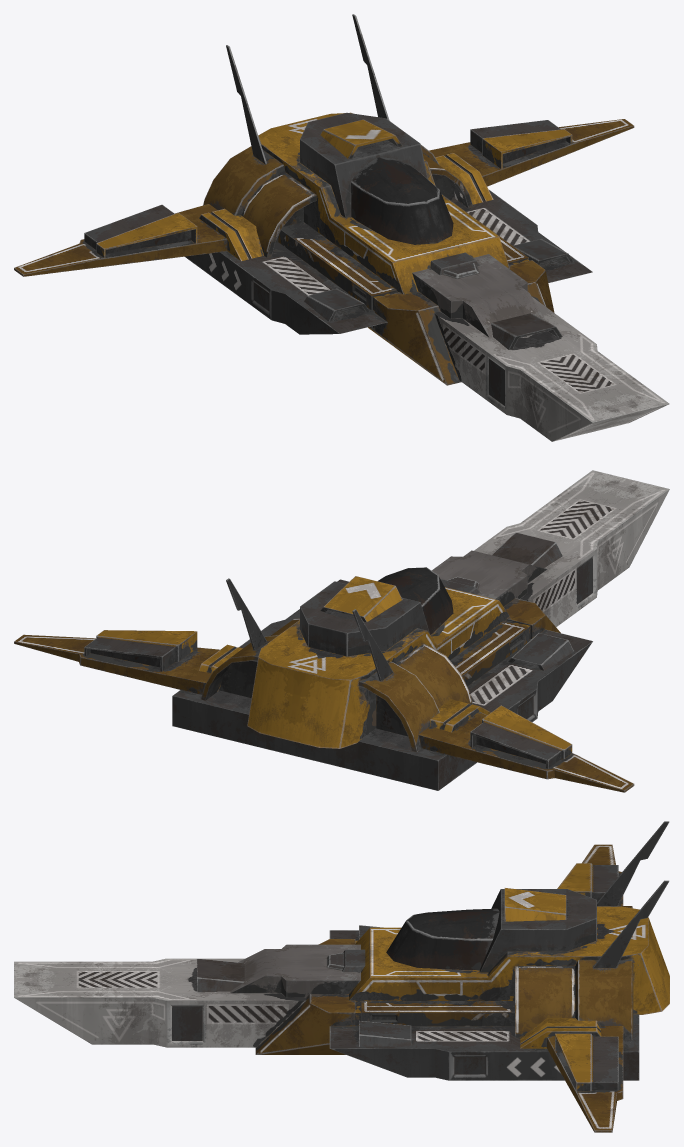
Rendered from Challenger.glb.
The picture shows the model from 3 angles, top to bottom: view 1: azimuth 30°, elevation 25°; view 2: azimuth 150°, elevation 25°; view 3: azimuth 270°, elevation 25°; orthographic projection. The views are drawn at different scales.
Visible parts, largest first — view 1: Challenger; view 2: Challenger; view 3: Challenger.
Part boxes in pixels (left/top/right/bottom): Challenger: left=14, top=14, right=669, bottom=441; Challenger: left=14, top=470, right=669, bottom=792; Challenger: left=14, top=821, right=669, bottom=1132.
Bounding box in the file's own units: 10.5 × 3.02 × 10.18.
1 material, 1 textured.
